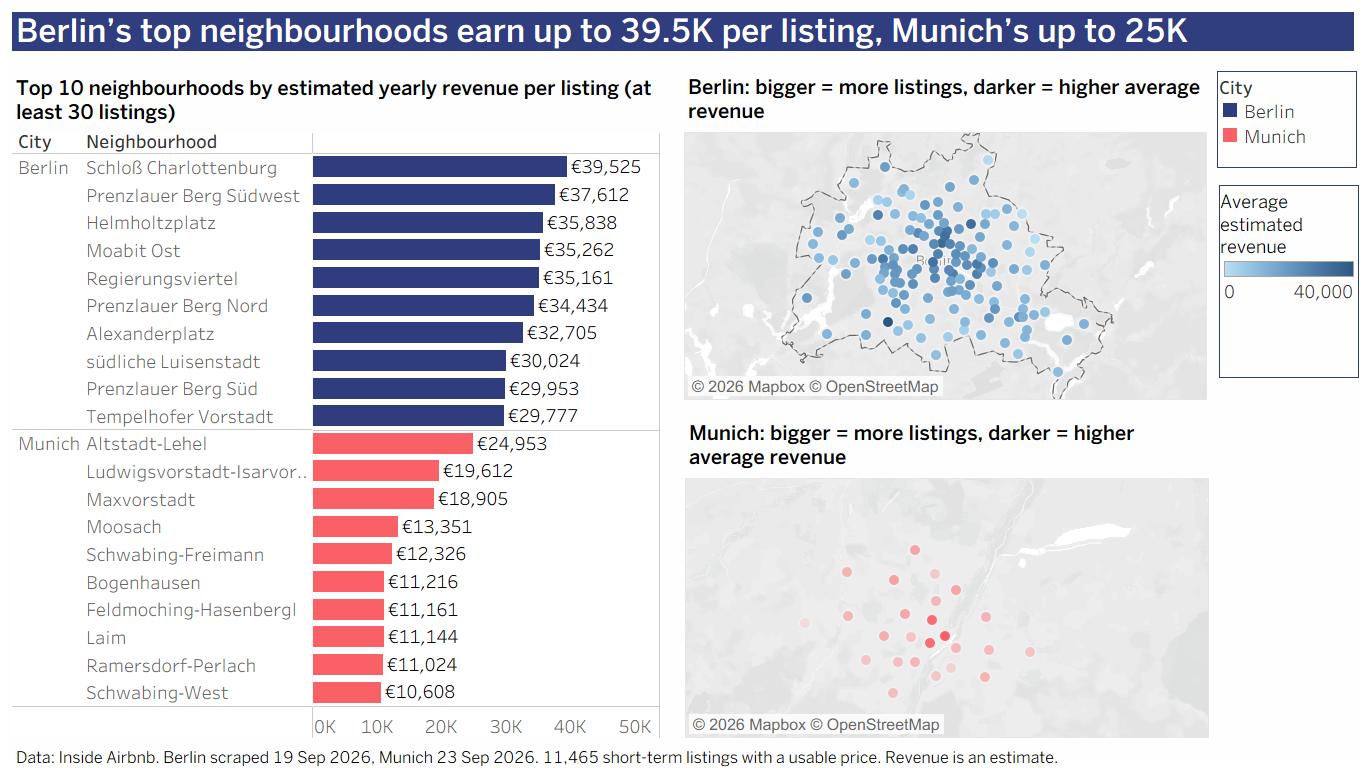

The dashboard page shown, as its layout file describes it:
{"tool":"tableau","page":{"name":"Market View","canvas":[1366,768],"ordinal":3},"visuals":[{"type":"text","box":[8,8,1350,47]},{"type":"worksheet","title":"Map Berlin","mark":"Circle","rows":["latitude"],"cols":["longitude"],"box":[684,69,523,331]},{"type":"worksheet","title":"Top 10 Neighbourhoods","mark":"Bar","rows":["city","neighbourhood"],"cols":["avg_est_revenue"],"box":[12,70,648,669]},{"type":"legend","title":"Top 10 Neighbourhoods","param":"[federated.1atep1c0c66qnh1cqjwj70t4duzs].[none:city:nk]","box":[1217,71,140,97]},{"type":"legend","title":"Map Berlin","param":"[federated.0aoo1ey18slqy915jfef4153ucxa].[avg:est_revenue_l365d:qk]","box":[1219,185,140,193]},{"type":"worksheet","title":"Map Munich","mark":"Circle","rows":["latitude"],"cols":["longitude"],"box":[685,415,524,323]},{"type":"text","box":[12,747,1347,20]}]}

Visuals, with their boxes in screenshot pixels (x1, y1, x2, y2), scaled from the page's 1366x768 canvas onto the 1366x768 screenshot:
text: locate(8, 8, 1358, 55)
"Map Berlin" worksheet (Circle marks): locate(684, 69, 1207, 400)
"Top 10 Neighbourhoods" worksheet (Bar marks): locate(12, 70, 660, 739)
"Top 10 Neighbourhoods" legend: locate(1217, 71, 1357, 168)
"Map Berlin" legend: locate(1219, 185, 1359, 378)
"Map Munich" worksheet (Circle marks): locate(685, 415, 1209, 738)
text: locate(12, 747, 1359, 767)
